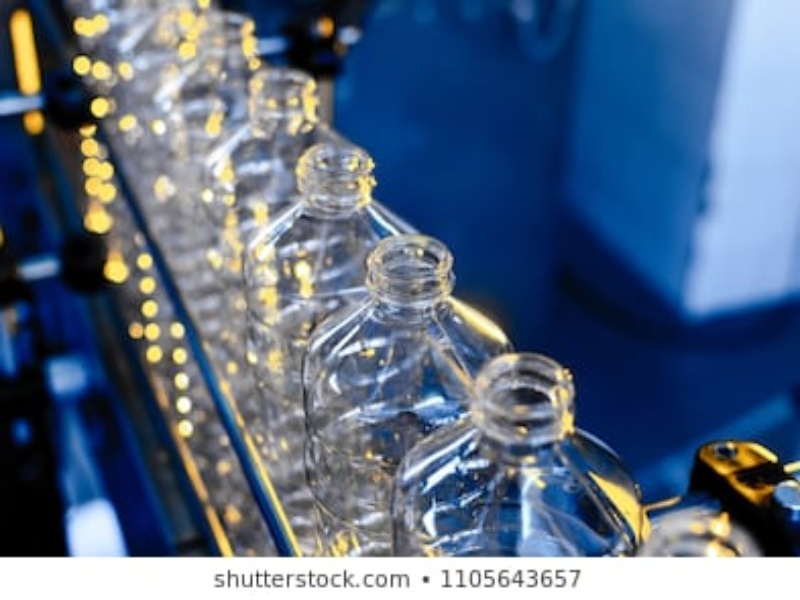plastic-bottle: (302, 232, 514, 556), (247, 141, 431, 459), (394, 351, 649, 556), (206, 67, 331, 318)
